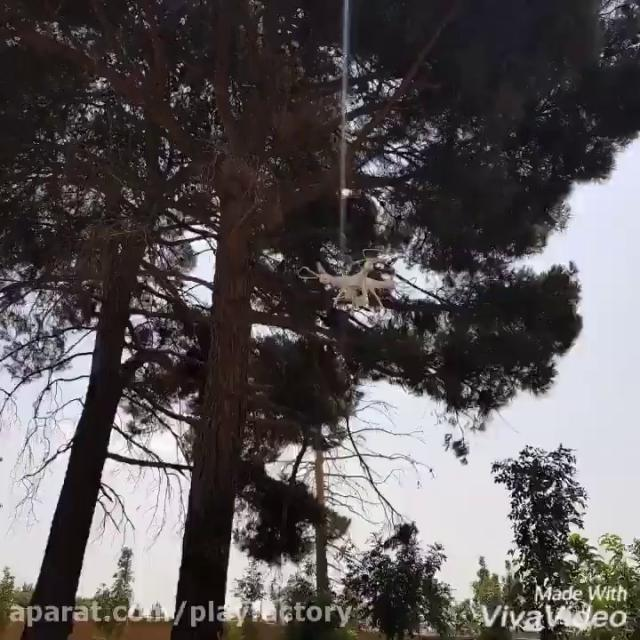drone: (302, 249, 412, 312)
